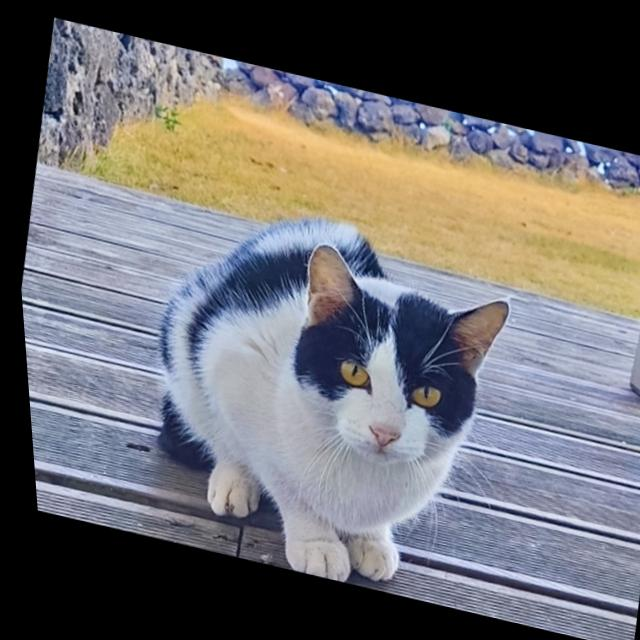animals: (107, 180, 533, 611)
